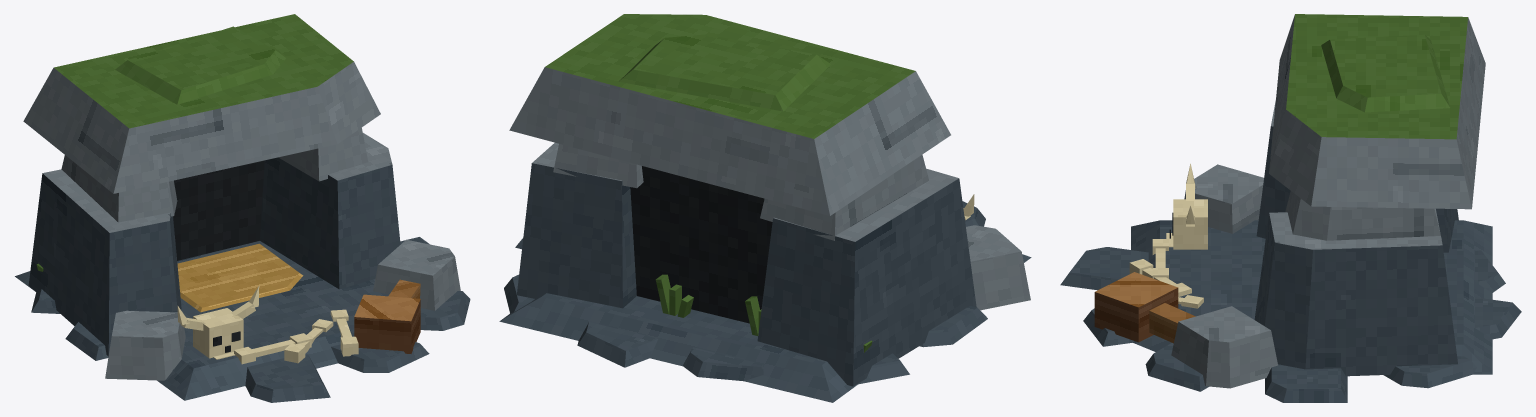
The model's file is troll_lair_v1.glb.
3 renders of one model, left to right at view 1: azimuth 30°, elevation 25°; view 2: azimuth 150°, elevation 25°; view 3: azimuth 270°, elevation 25°, orthographic. The views are drawn at different scales.
Visible parts, largest first — view 1: Model; view 2: Model; view 3: Model.
Boxes of the visible parts, x1,y1,x2,y2 form: Model: (15,14,470,402); Model: (499,14,1031,402); Model: (1060,14,1521,402).
Size of the model in its own units: 1.42 by 0.7869 by 1.41.
Materials: 1 (1 with a texture image).
